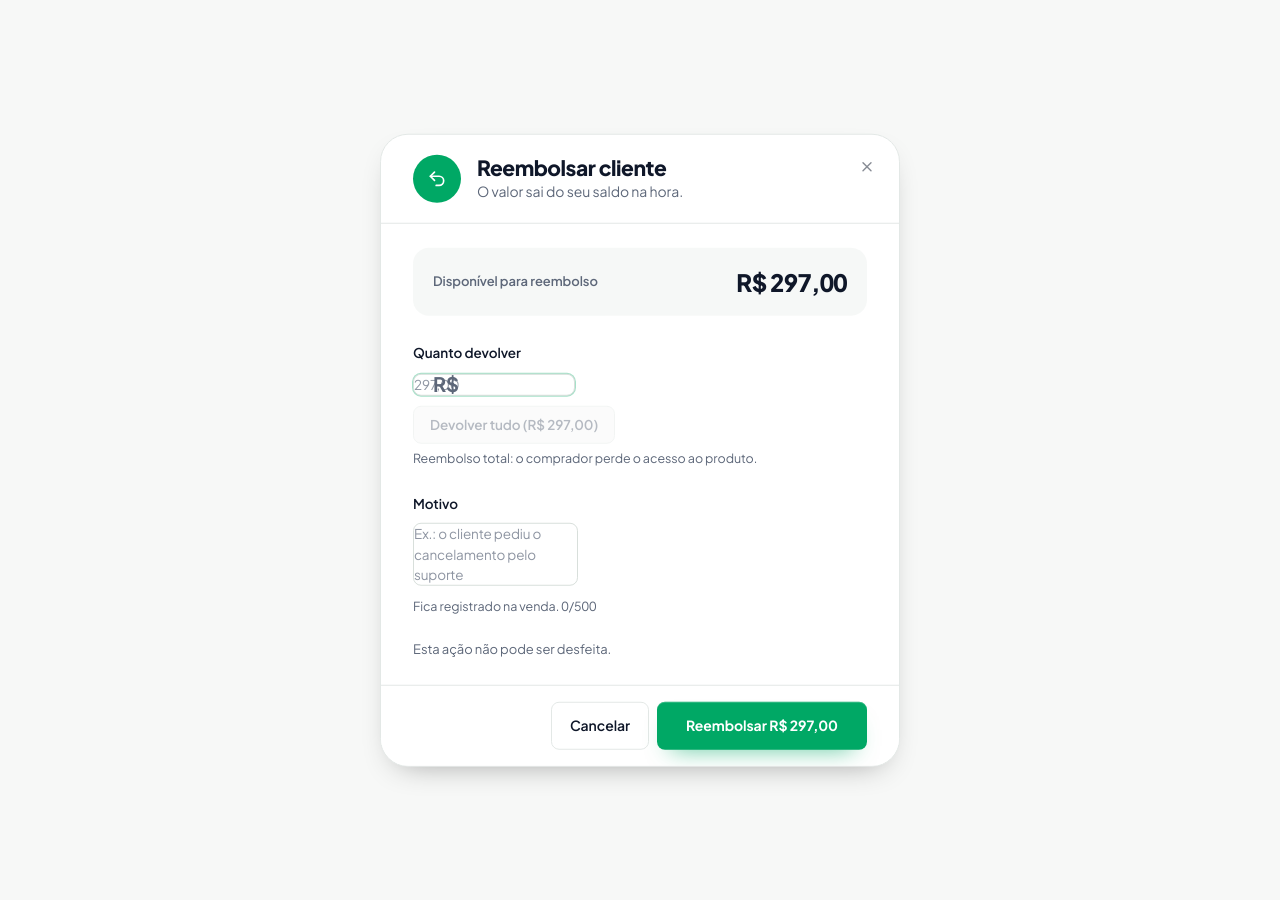
reembolso do seller › erro do servidor aparece no diálogo, sem a sigla técnica, e o diálogo continua aberto
The width and height of the screenshot is (1280, 900).
Step 1. Type "Pedido pelo suporte" into the text box labelled "Motivo" → x=496, y=555, box [413, 523, 578, 586]
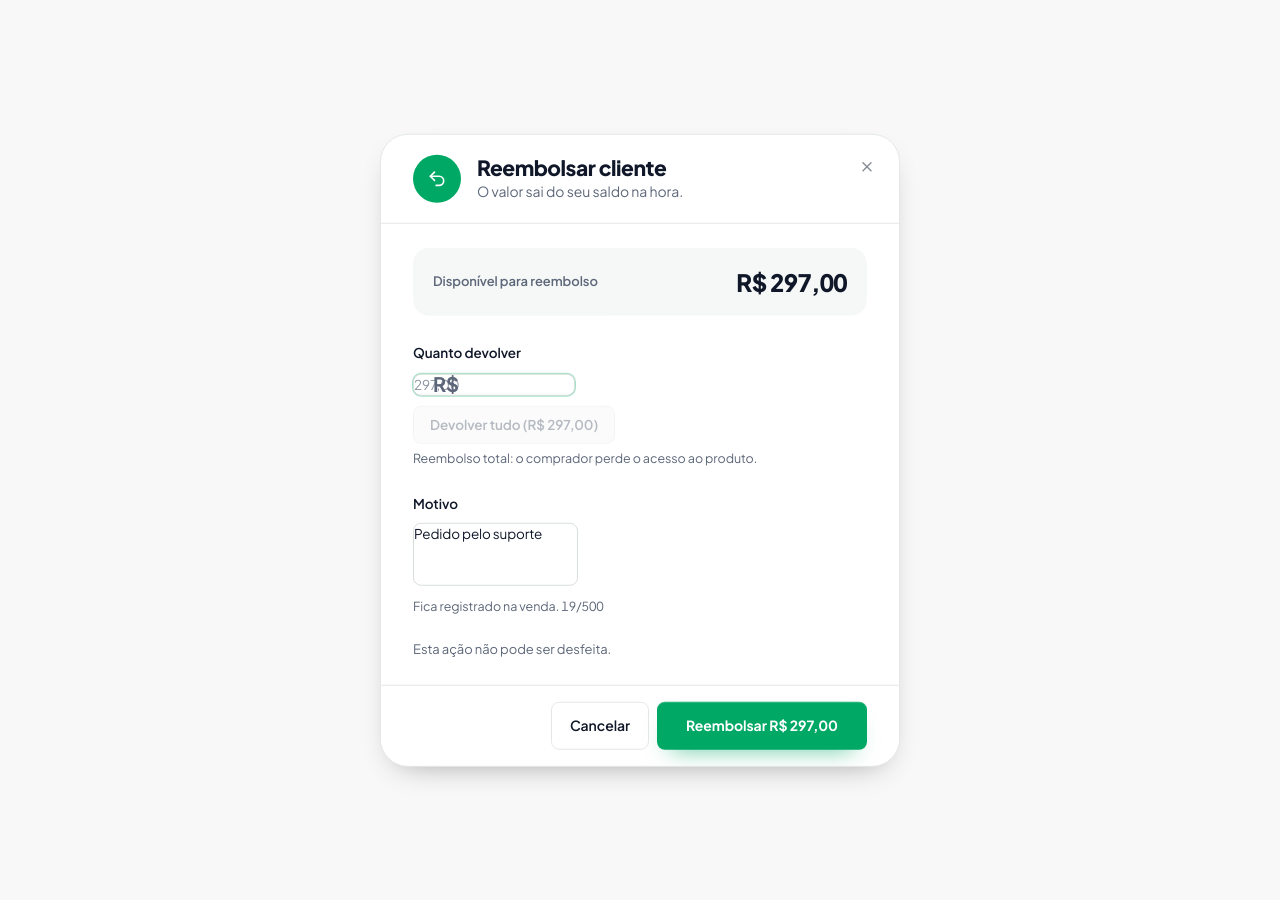
Step 2. Click the button "Reembolsar R$ 297,00" → x=762, y=725, box [657, 701, 867, 749]
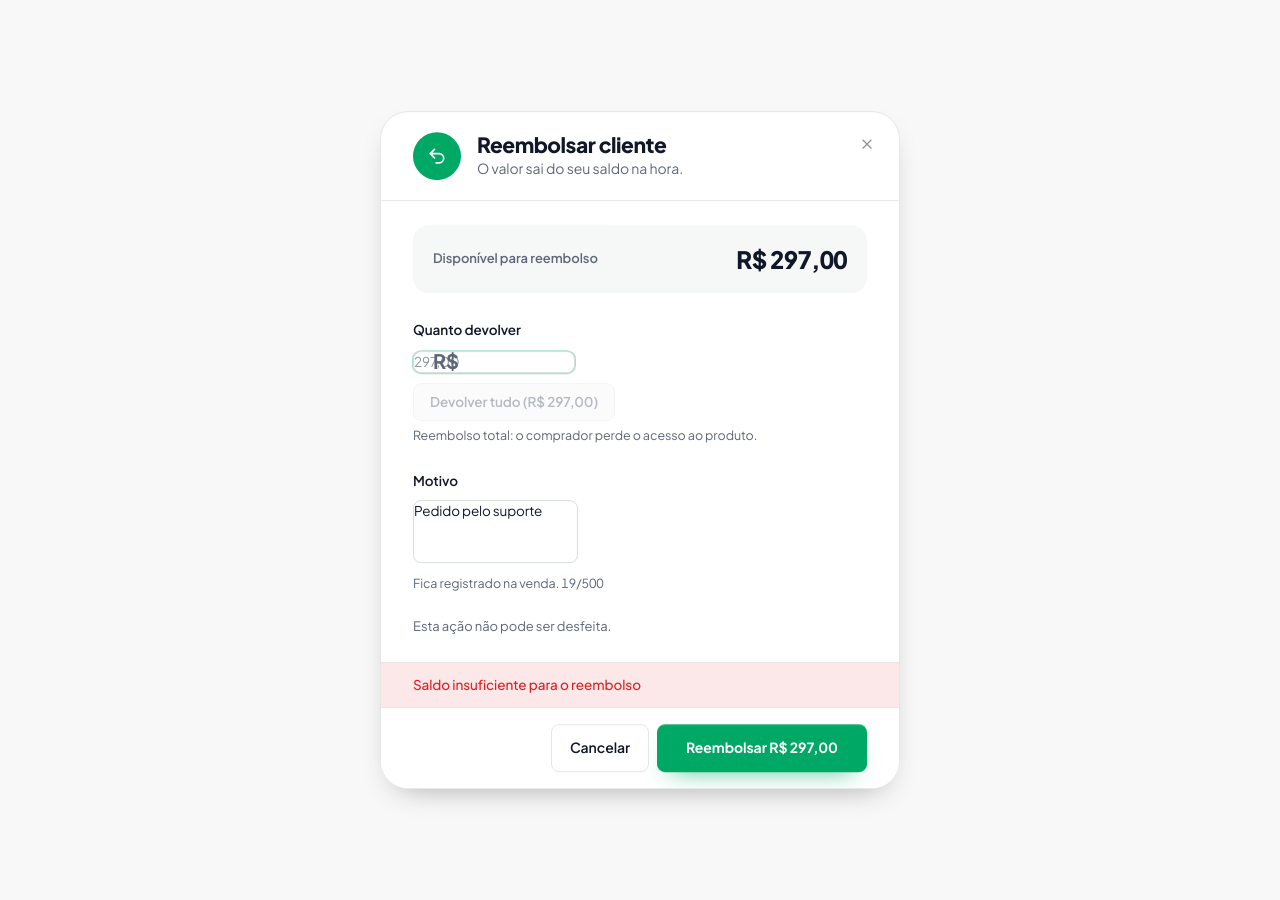
Now the text "Saldo insuficiente para o reembolso" is shown, box [381, 662, 899, 707]
